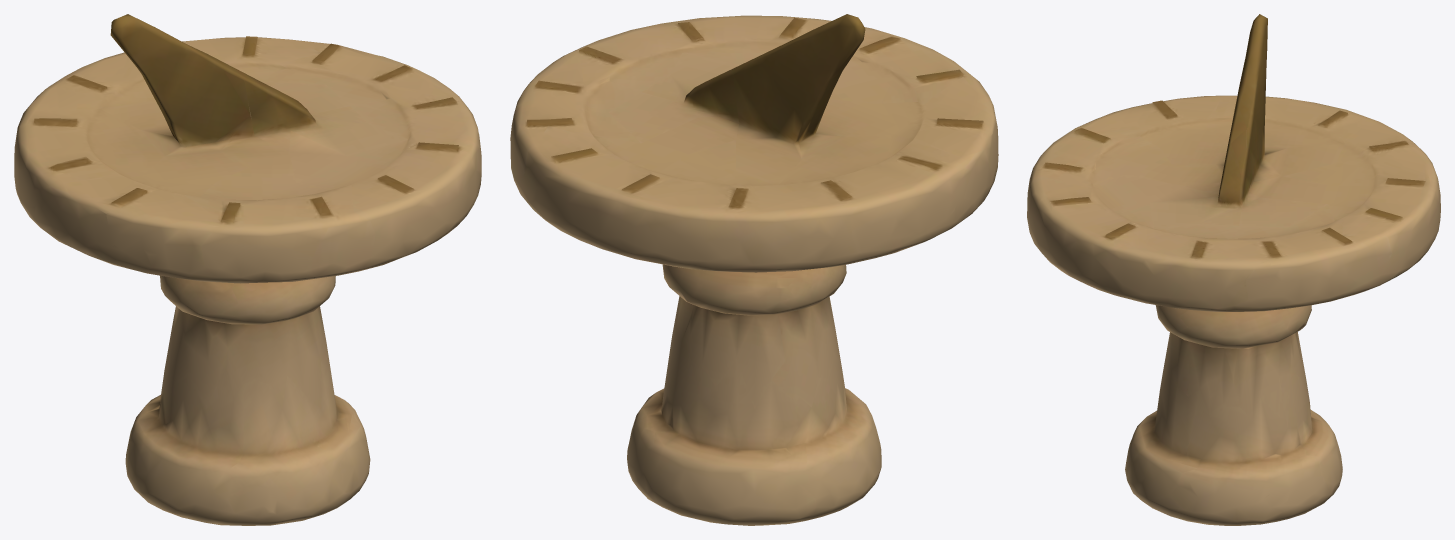
The model's file is sundial.glb.
3 views of the same model, side by side, from view 1: azimuth 30°, elevation 25°; view 2: azimuth 150°, elevation 25°; view 3: azimuth 270°, elevation 25° (orthographic). The views are drawn at different scales.
Parts seen in each view (by area): view 1: tripo_node_f85e1ff9-943d-400f-8353-534ffc12a5fa; view 2: tripo_node_f85e1ff9-943d-400f-8353-534ffc12a5fa; view 3: tripo_node_f85e1ff9-943d-400f-8353-534ffc12a5fa.
Boxes of the visible parts, box(x1,y1,x2,y2) form: tripo_node_f85e1ff9-943d-400f-8353-534ffc12a5fa: box(14, 14, 481, 525); tripo_node_f85e1ff9-943d-400f-8353-534ffc12a5fa: box(510, 14, 998, 525); tripo_node_f85e1ff9-943d-400f-8353-534ffc12a5fa: box(1027, 14, 1440, 525).
Size of the model in its own units: 0.8855 by 1 by 0.8867.
Materials: 1 (1 with a texture image).
